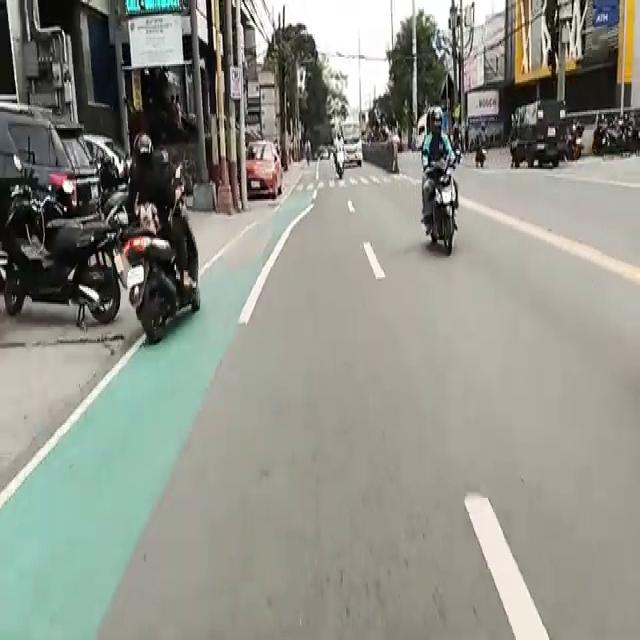car: (509, 100, 573, 175), (241, 136, 287, 202)
motorcycle: (3, 190, 117, 319), (128, 150, 204, 330), (424, 115, 454, 249), (473, 114, 490, 173), (334, 130, 348, 184)
